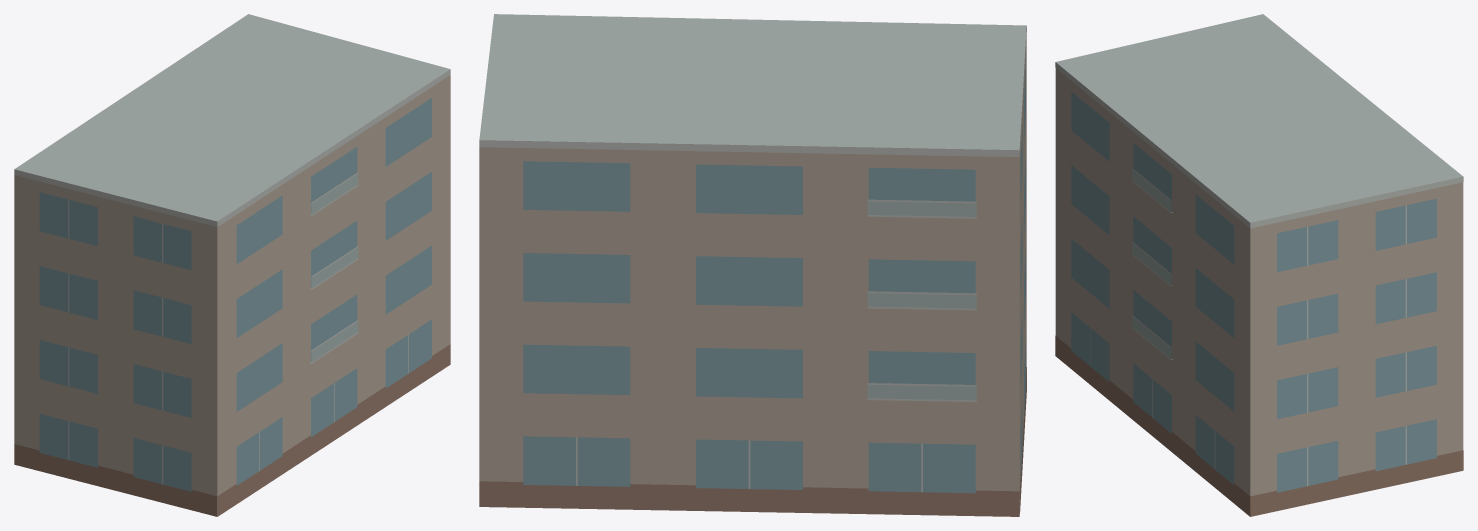
Rendered from survey-upis-32963578.glb.
3 renders of one model, left to right at view 1: azimuth 30°, elevation 25°; view 2: azimuth 150°, elevation 25°; view 3: azimuth 270°, elevation 25°, orthographic. The views are drawn at different scales.
Parts seen in each view (by area): view 1: survey-upis-32963578.tmp; view 2: survey-upis-32963578.tmp; view 3: survey-upis-32963578.tmp.
Part boxes in pixels (x1=…): survey-upis-32963578.tmp: x1=14, y1=14, x2=450, y2=516; survey-upis-32963578.tmp: x1=479, y1=14, x2=1026, y2=516; survey-upis-32963578.tmp: x1=1055, y1=14, x2=1463, y2=516.
Size of the model in its own units: 19.51 by 12.8 by 16.11.
